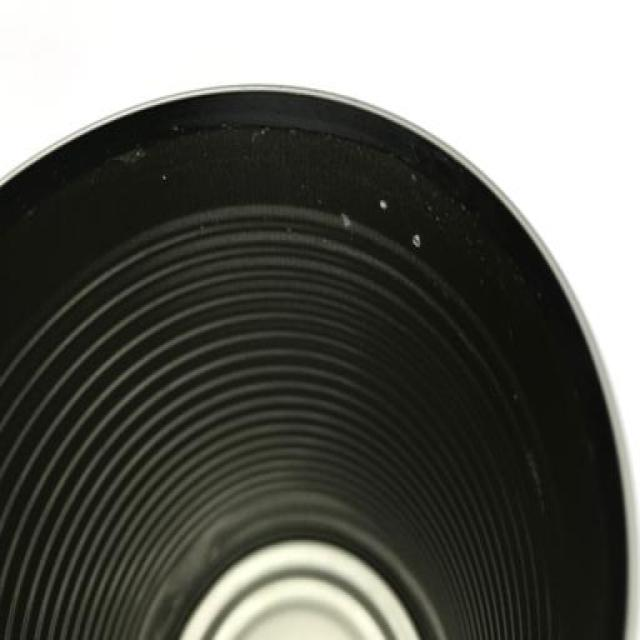Metal: (0, 85, 634, 640)
